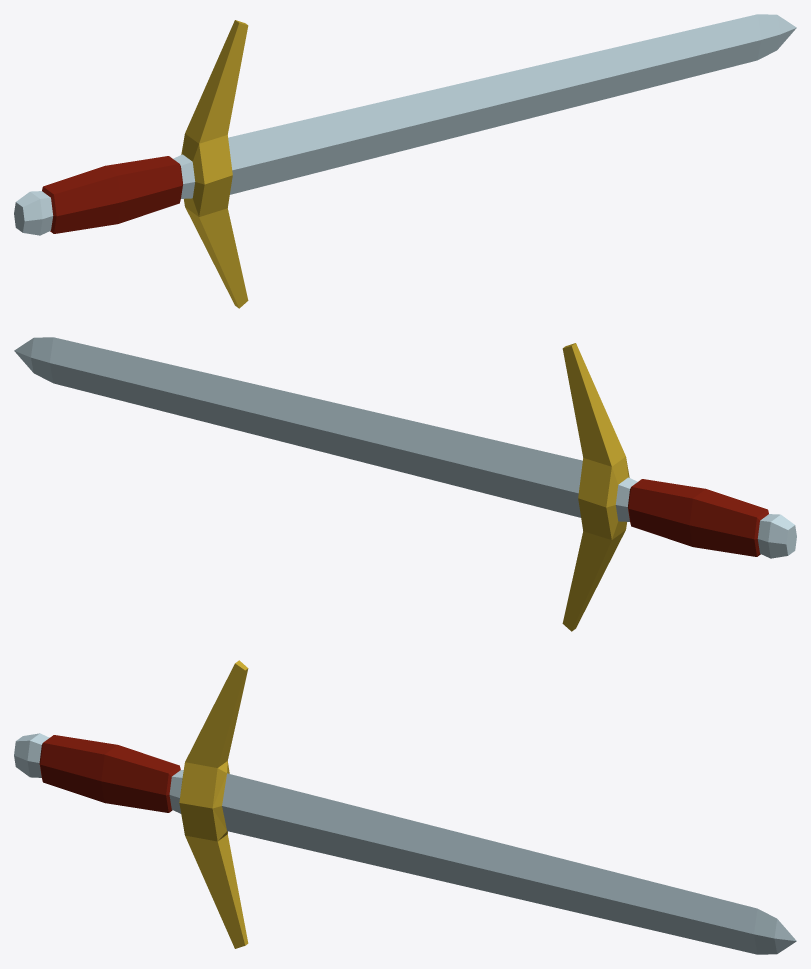
Rendered from sword.gltf.
3 views of the same model, one above another, from view 1: azimuth 30°, elevation 25°; view 2: azimuth 150°, elevation 25°; view 3: azimuth 330°, elevation 25° (orthographic).
Parts seen in each view (by area): view 1: Sword; view 2: Sword; view 3: Sword.
Boxes of the visible parts, box(x1,y1,x2,y2) form: Sword: box(14, 14, 796, 308); Sword: box(14, 337, 796, 631); Sword: box(14, 660, 796, 954).
Bounding box in the file's own units: 5.62 × 1.97 × 0.3167.
